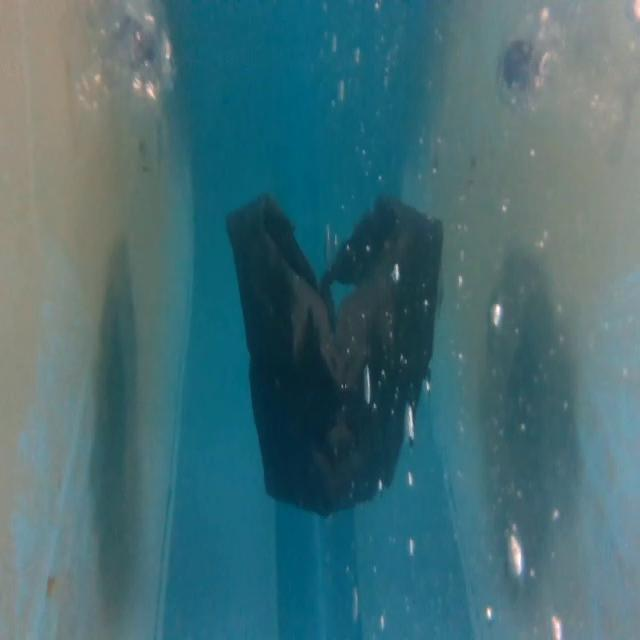plastic bags: (220, 190, 447, 524)
